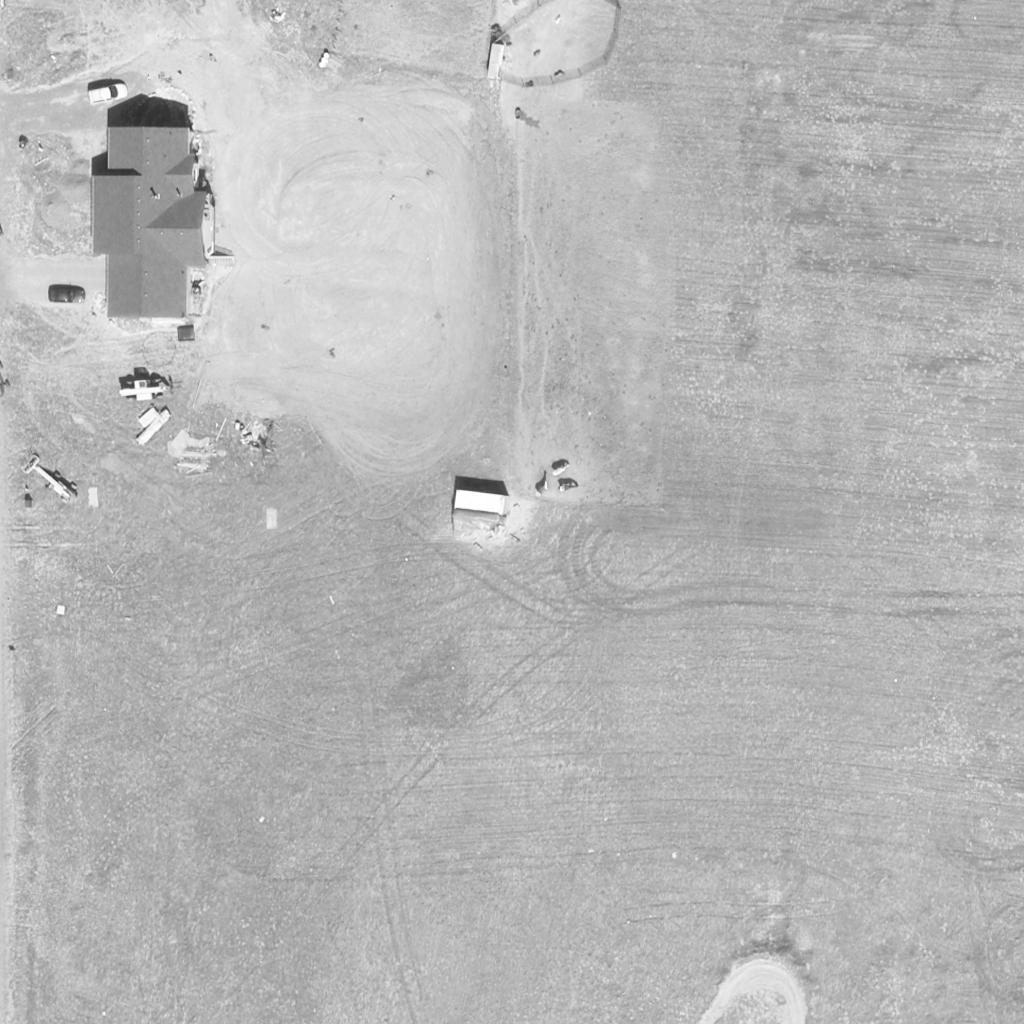vehicle: (20, 453, 84, 509), (119, 375, 177, 401), (87, 84, 129, 104), (47, 285, 85, 303)
